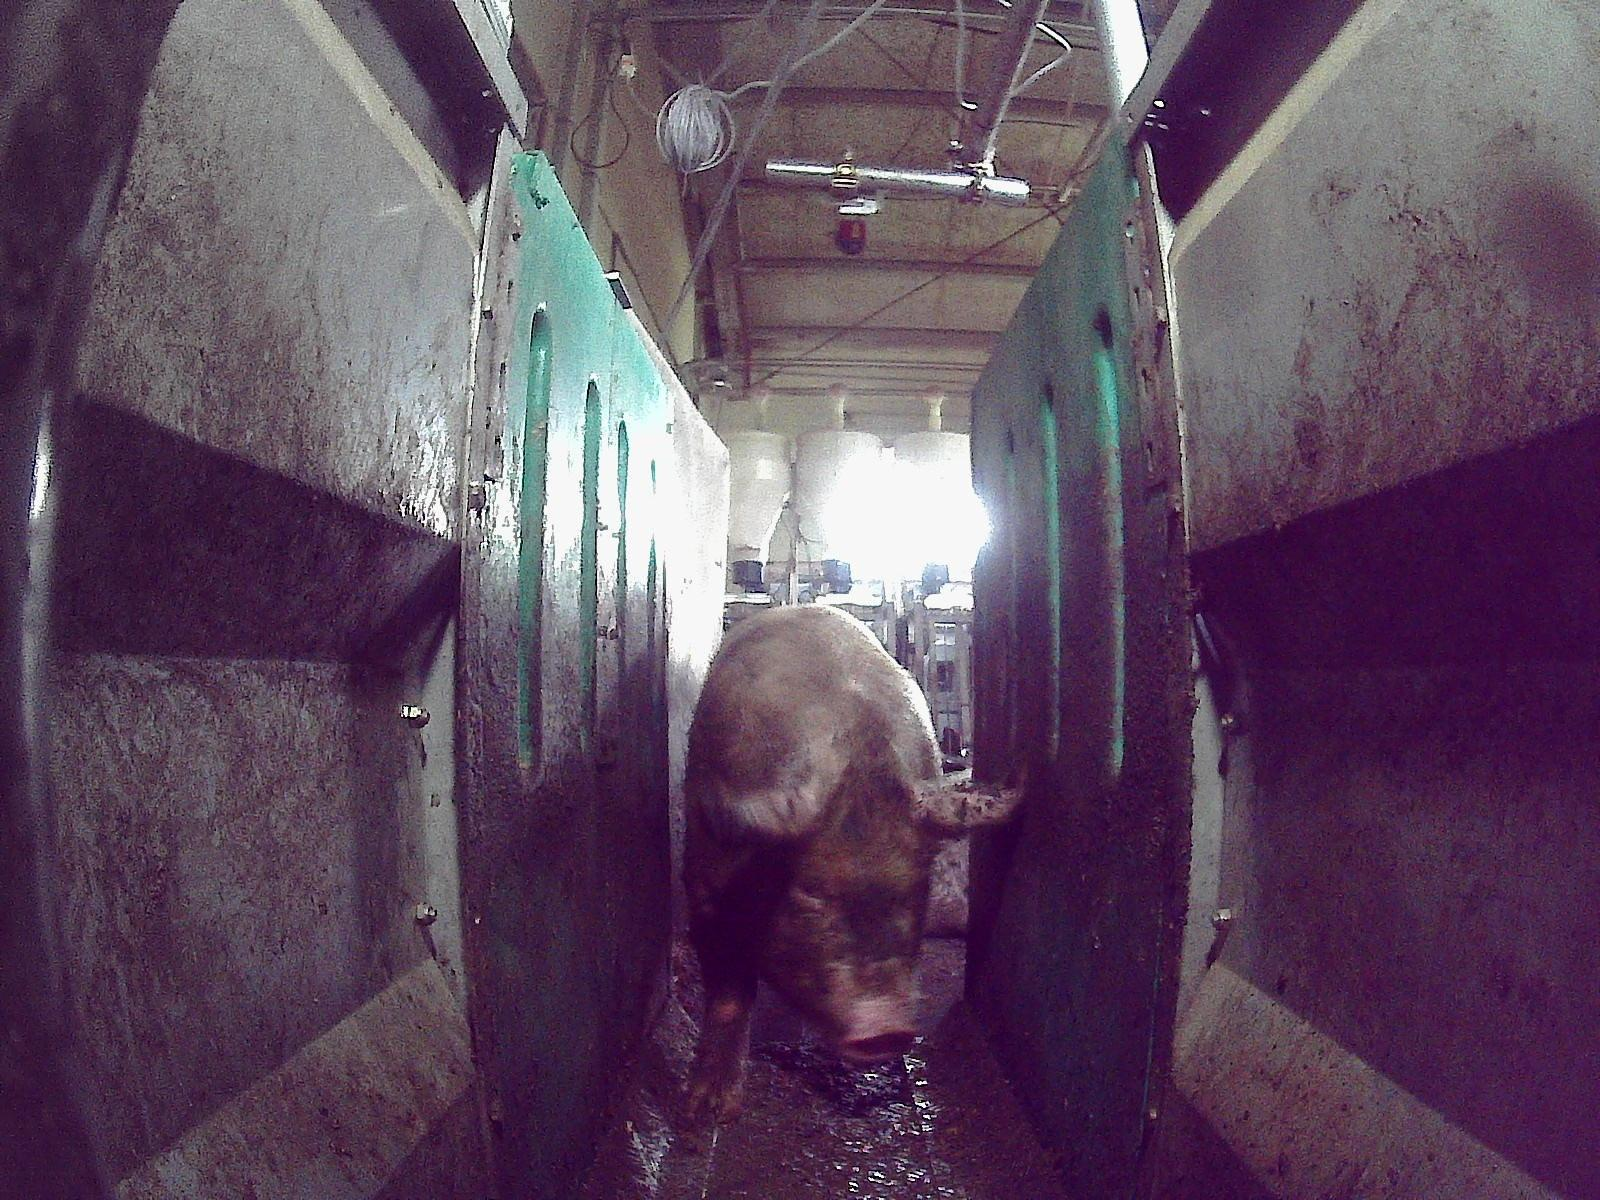Face: (749, 753, 932, 1061)
